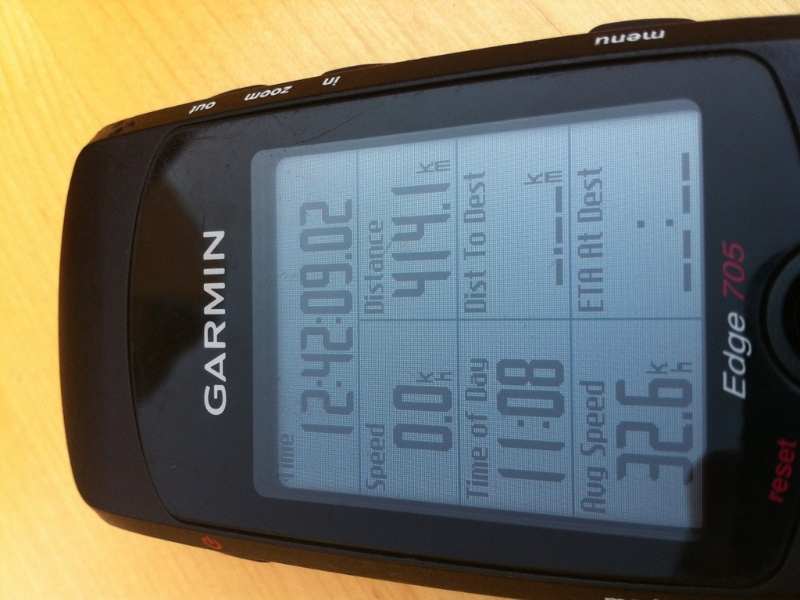cellphone: (70, 44, 787, 600)
